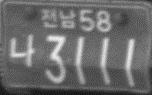1: (98, 36, 114, 86), (74, 32, 89, 83), (125, 35, 137, 88)
3: (43, 33, 68, 81)
5: (78, 8, 95, 33)
8: (96, 9, 111, 32)
나: (9, 33, 36, 68)
전남_O: (40, 7, 75, 30)
